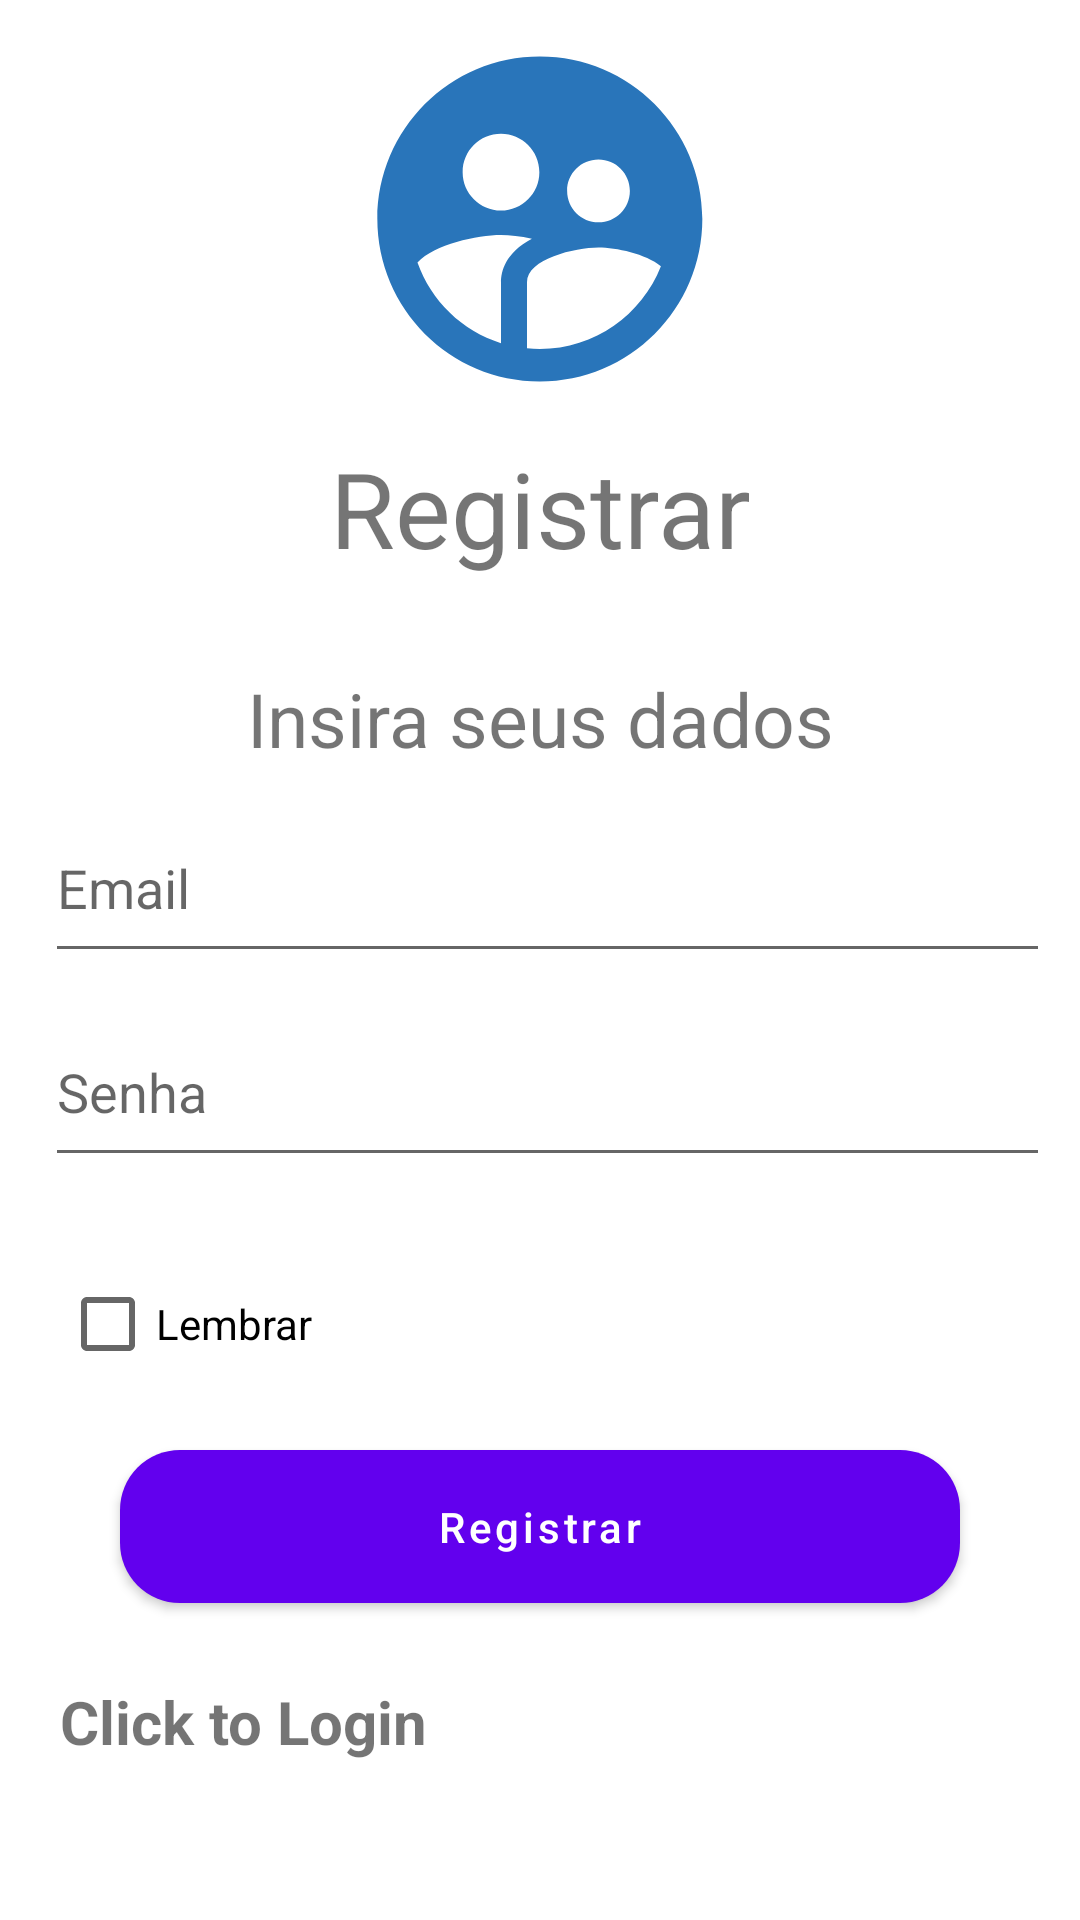

Point at icon controls on the screen. Image size 1080w x 1920h, points as (x,y).
supervised user circle: (540,219)
